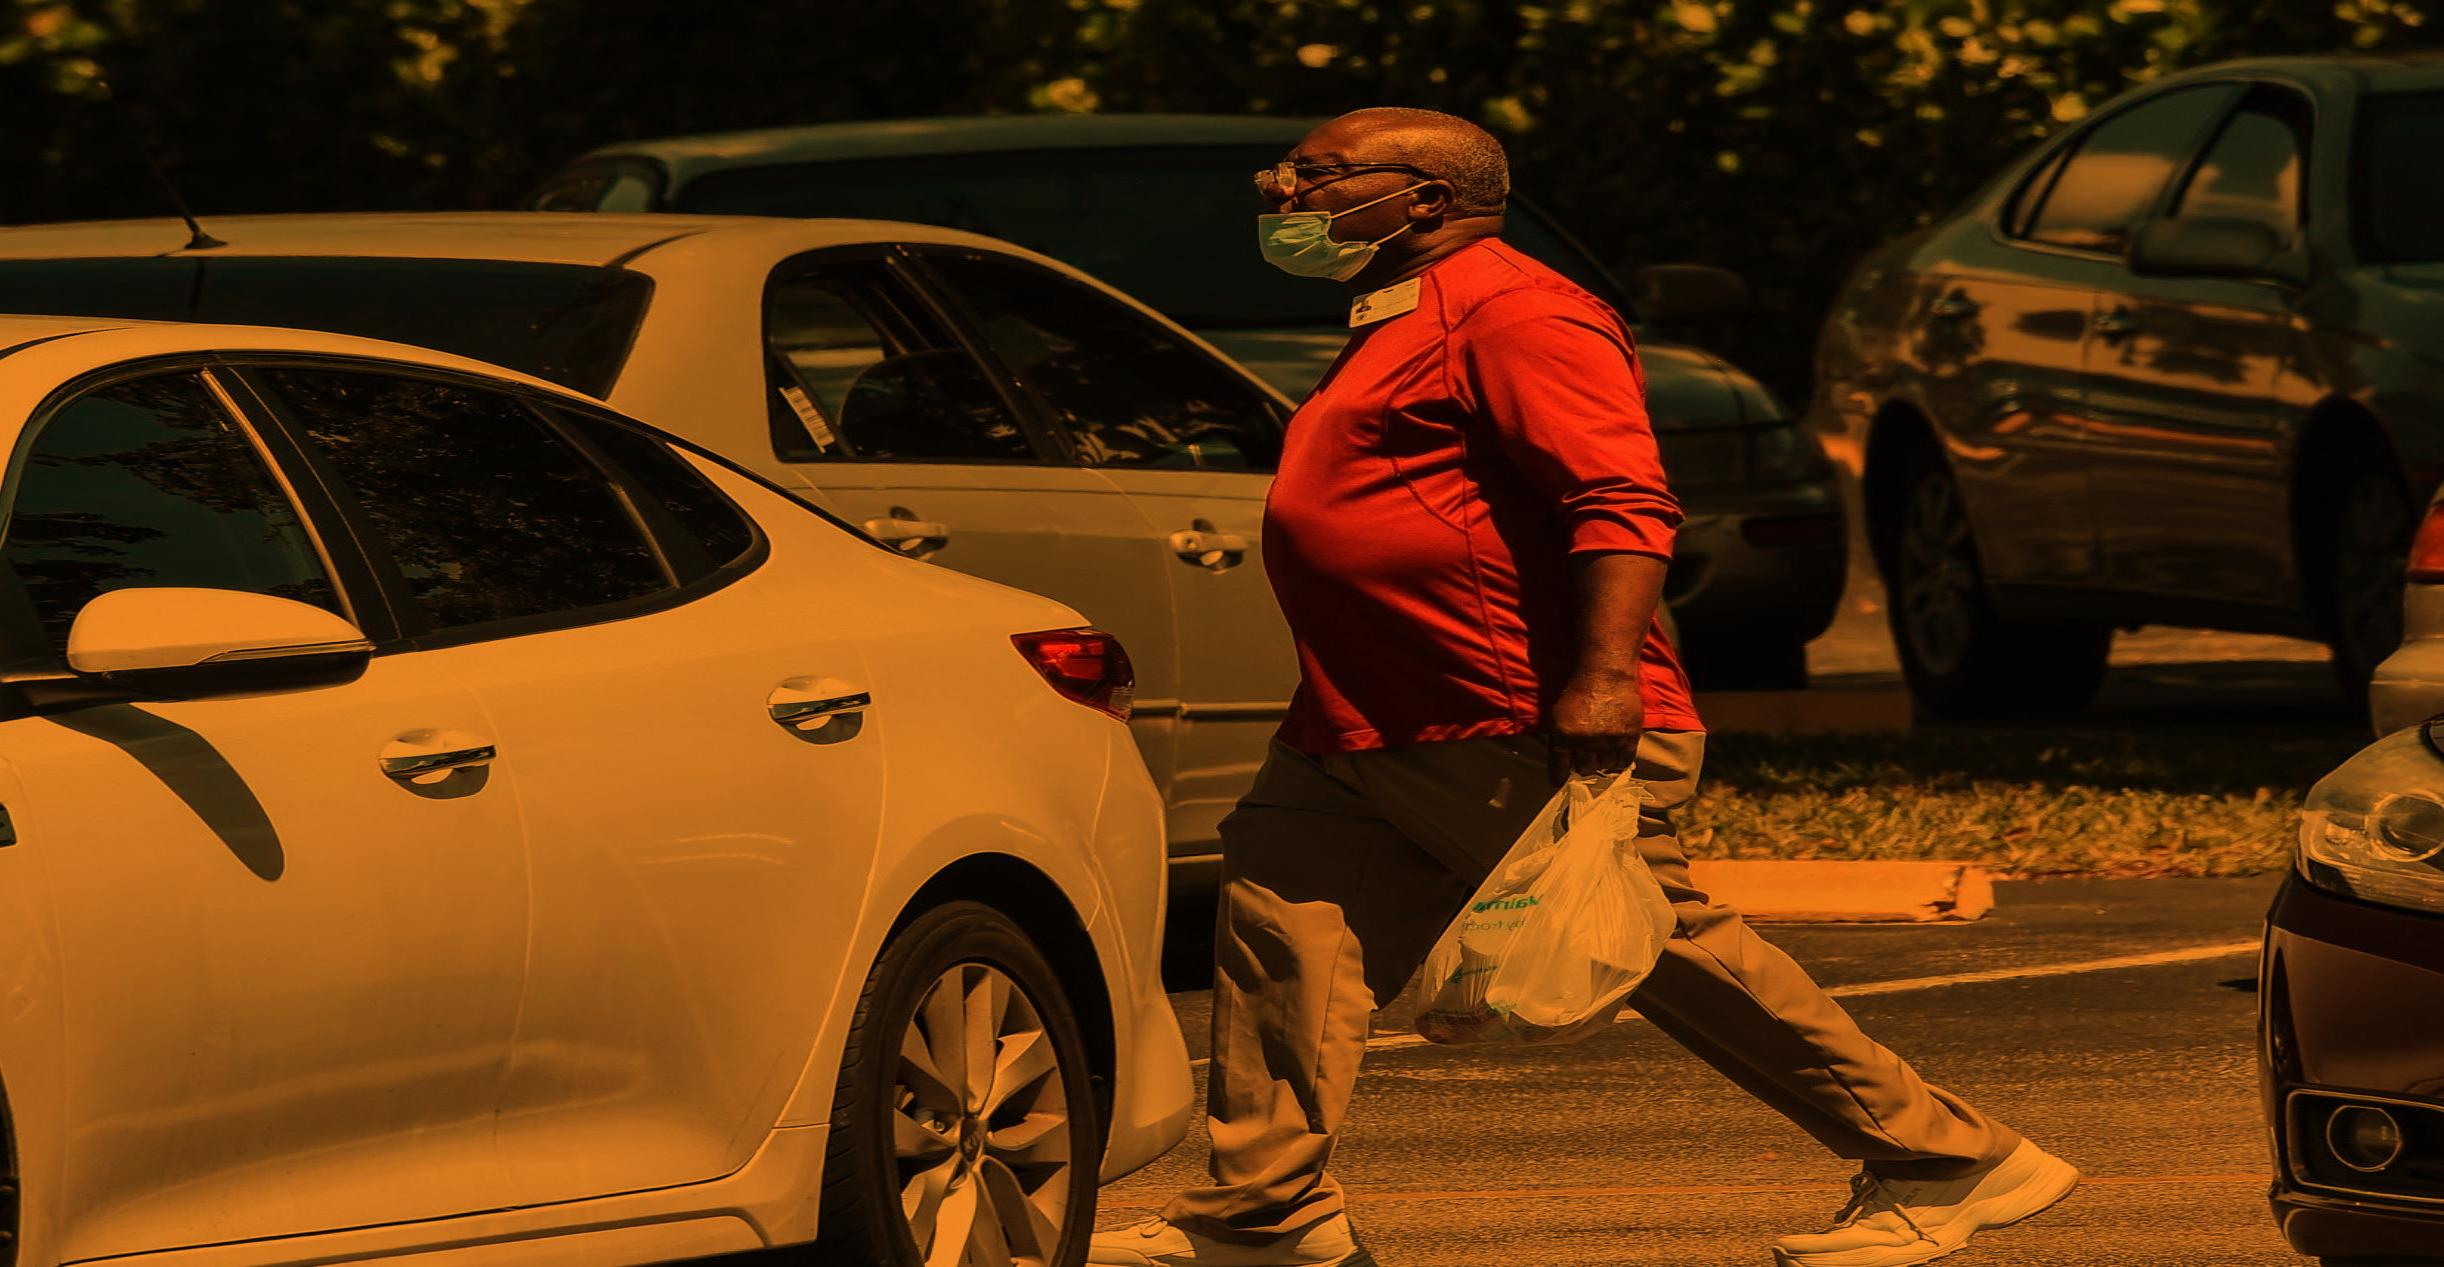mask_weared_incorrect: (1202, 98, 1477, 318), (1241, 106, 1528, 295)
